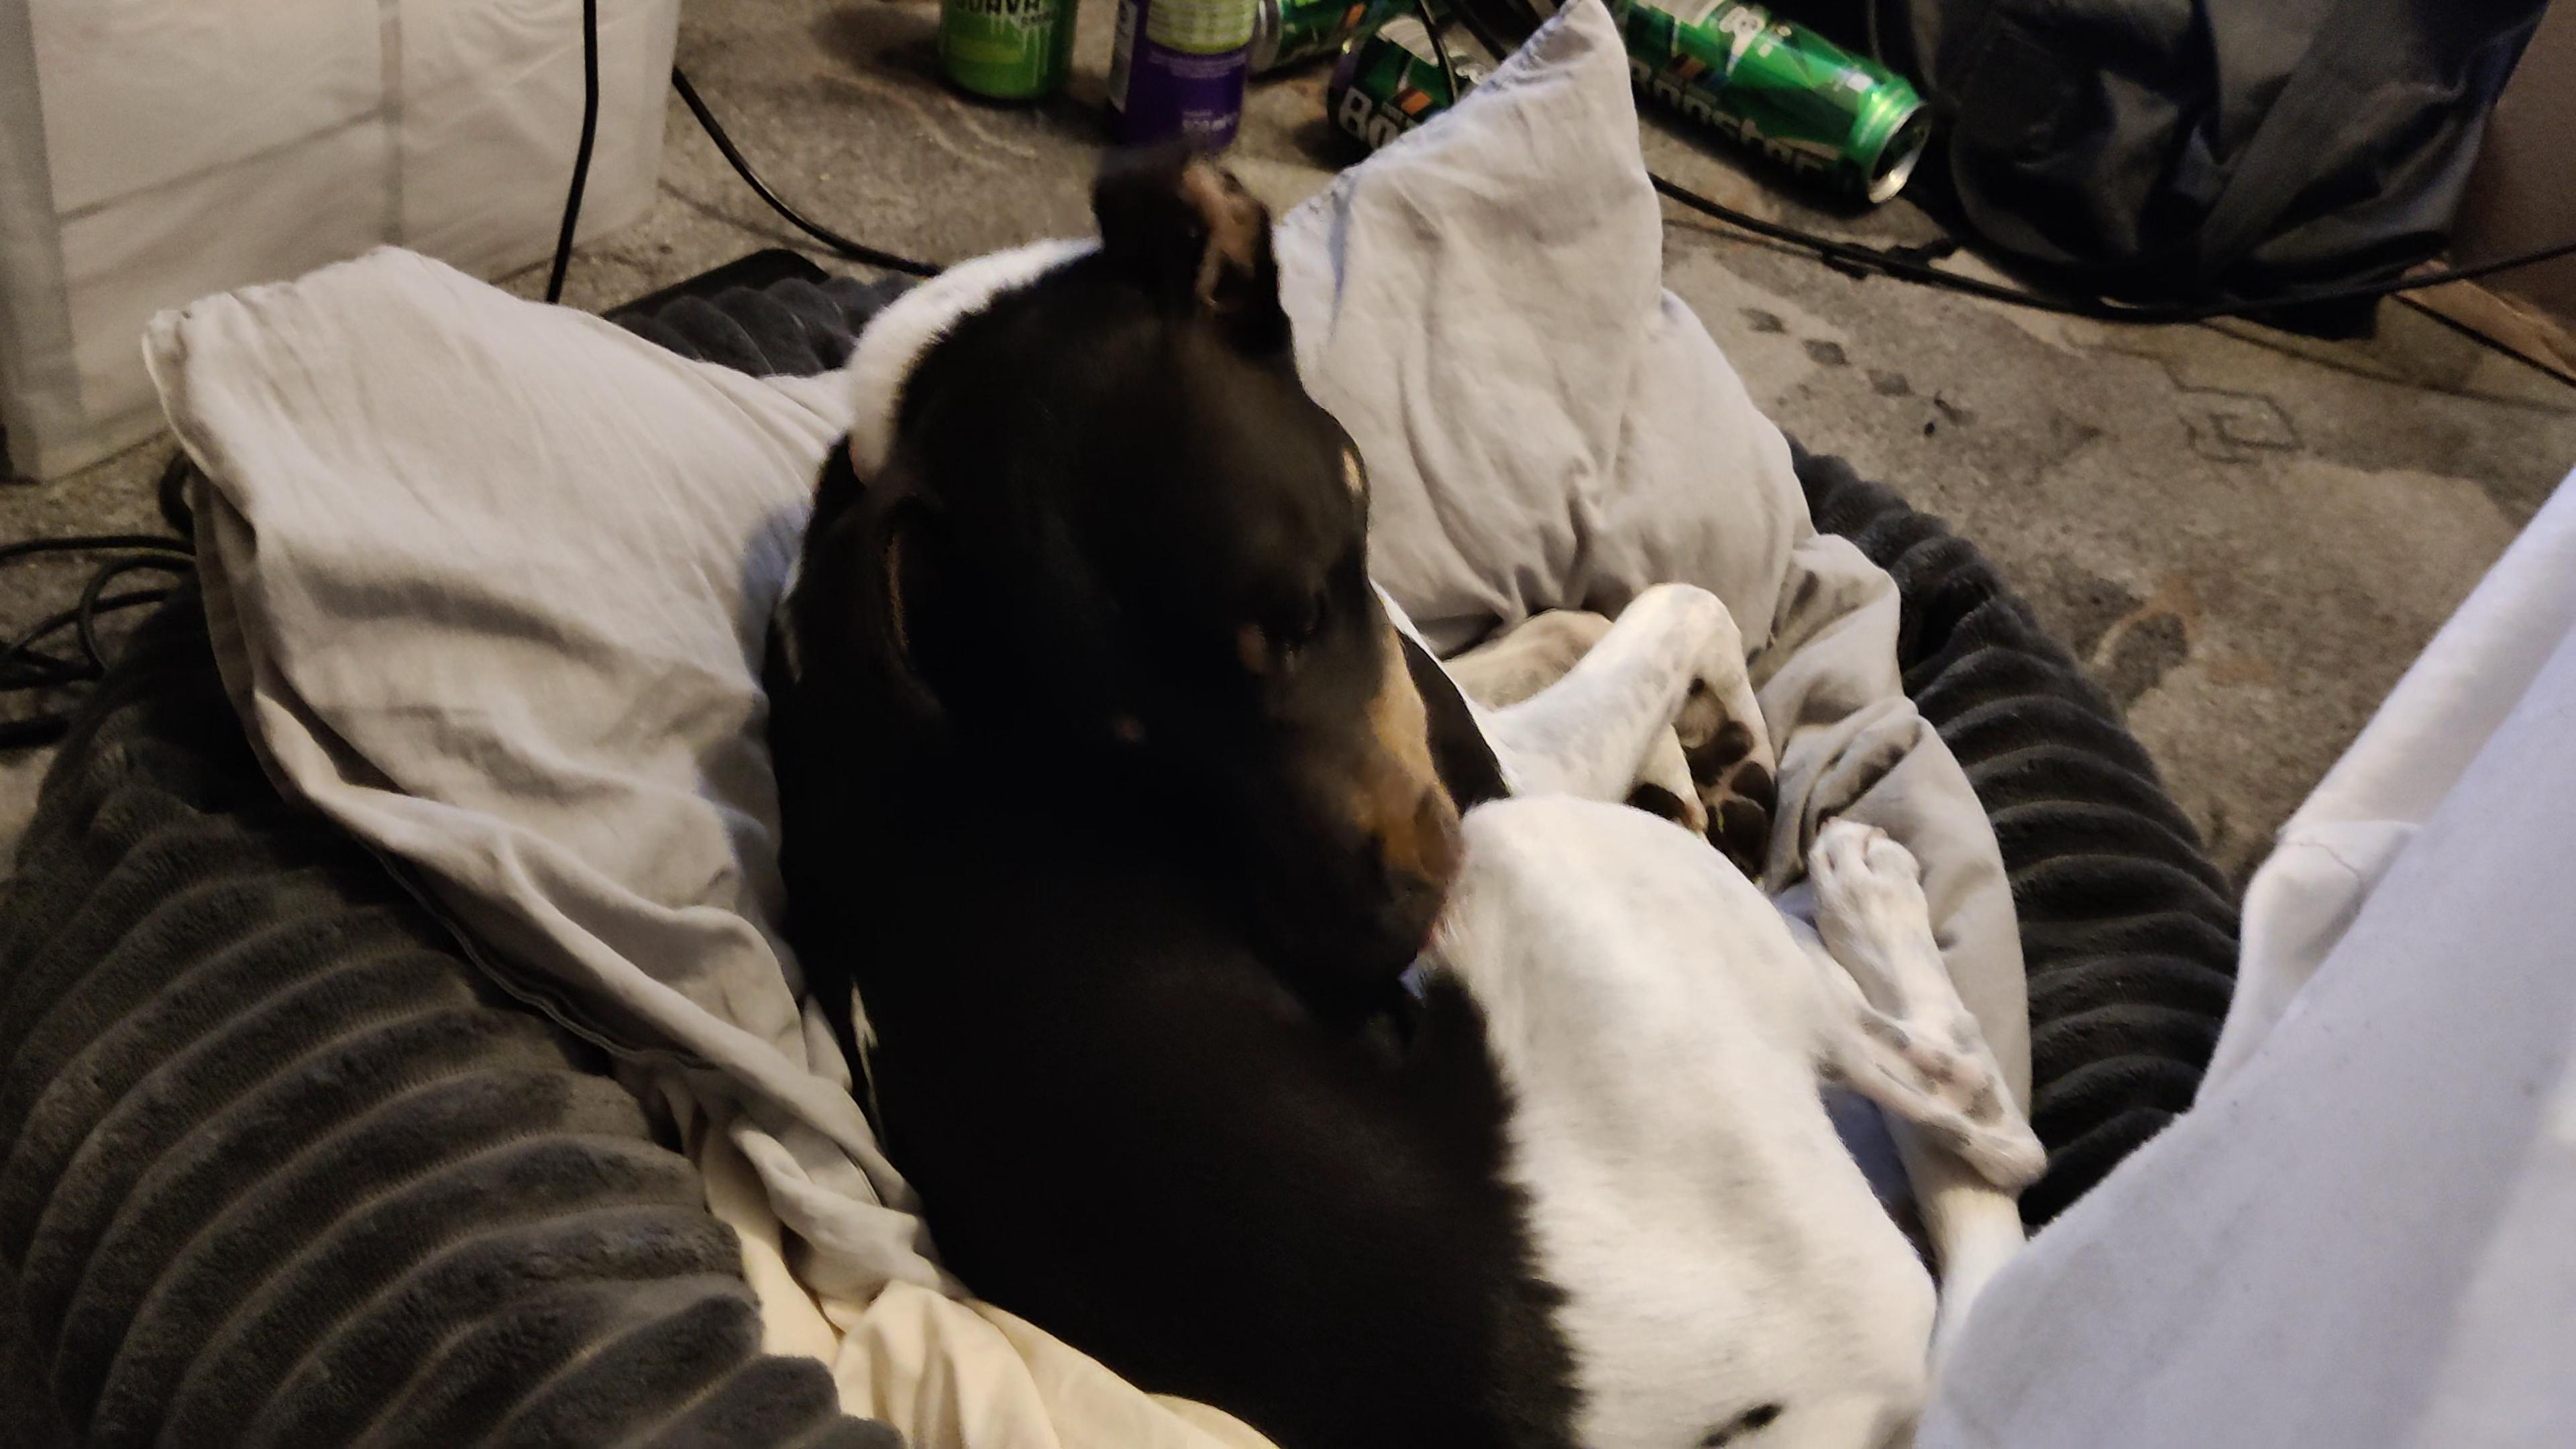Dog: (745, 108, 2082, 1449)
